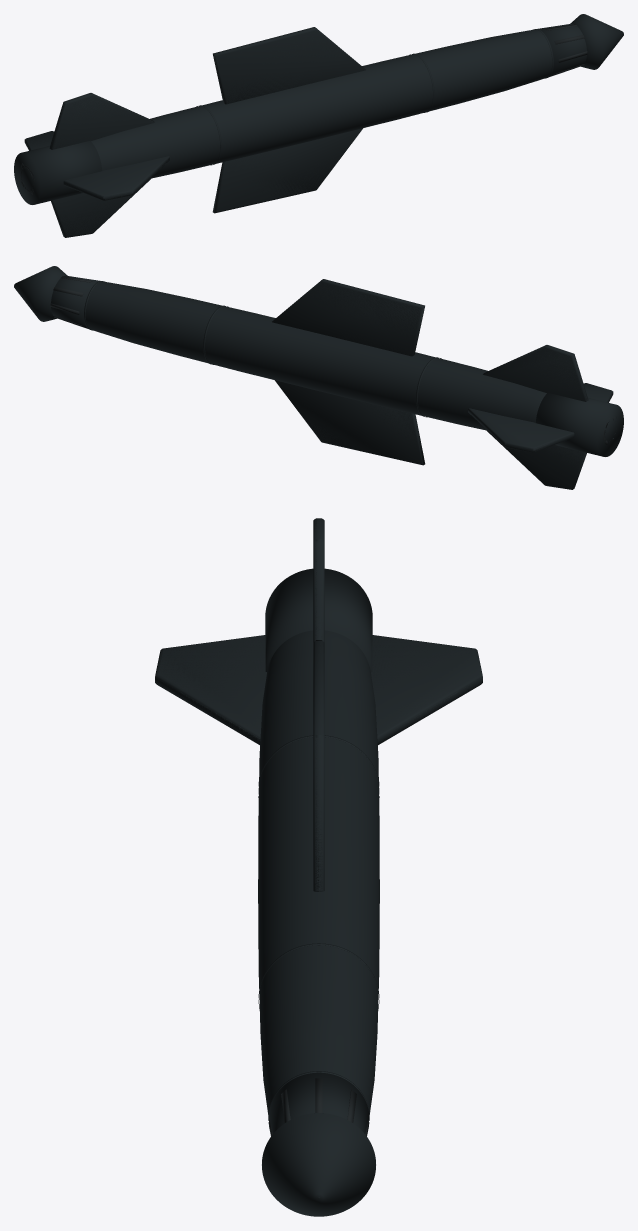
Rendered from P700_Granit.glb.
The picture shows the model from 3 angles, top to bottom: view 1: azimuth 30°, elevation 25°; view 2: azimuth 150°, elevation 25°; view 3: azimuth 270°, elevation 25°; orthographic projection. The views are drawn at different scales.
Visible parts, largest first — view 1: P700_LOD0_Body, P700_LOD0_Wing_L, P700_LOD1_Wing_R, P700_LOD1_Wing_L, P700_LOD0_Booster, P700_LOD0_Wing_R, P700_LOD0_Tail_Horizontal_L, P700_LOD0_Tail_Horizontal_R, P700_LOD0_Tail_Down, P700_LOD1_Tail_Horizontal_L, P700_LOD1_Tail_Horizontal_R, P700_LOD0_Launch_IntakeCap (+7 smaller); view 2: P700_LOD0_Body, P700_LOD1_Wing_L, P700_LOD1_Wing_R, P700_LOD0_Wing_L, P700_LOD0_Tail_Horizontal_L, P700_LOD0_Booster, P700_LOD1_Booster, P700_LOD0_Tail_Horizontal_R, P700_LOD0_Tail_Up, P700_LOD1_Tail_Horizontal_L, P700_LOD0_Launch_IntakeCap, P700_LOD0_Wing_R (+7 smaller); view 3: P700_LOD0_Body, P700_LOD0_Launch_IntakeCap, P700_LOD0_Tail_Down, P700_LOD0_Tail_Up, P700_LOD0_Booster, P700_LOD1_Tail_Up, P700_LOD1_Tail_Down, P700_LOD1_Launch_IntakeCap, P700_LOD0_InletRing, P700_LOD1_Wing_L, P700_LOD1_Booster, P700_LOD1_InletRing (+1 smaller).
Boxes of the visible parts, x1,y1,x2,y2 form: P700_LOD0_Body: (91,29,552,178); P700_LOD0_Wing_L: (215,27,347,103); P700_LOD1_Wing_R: (214,128,362,212); P700_LOD1_Wing_L: (214,27,365,104); P700_LOD0_Booster: (14,141,101,204); P700_LOD0_Wing_R: (217,148,343,211); P700_LOD0_Tail_Horizontal_L: (50,93,152,149); P700_LOD0_Tail_Horizontal_R: (51,179,149,236); P700_LOD0_Tail_Down: (63,156,169,199); P700_LOD1_Tail_Horizontal_L: (49,93,154,149); P700_LOD1_Tail_Horizontal_R: (52,178,150,237); P700_LOD0_Launch_IntakeCap: (570,14,623,69); P700_LOD0_Body: (85,281,546,430); P700_LOD1_Wing_L: (272,279,423,356); P700_LOD1_Wing_R: (275,380,423,464); P700_LOD0_Wing_L: (302,279,423,355); P700_LOD0_Tail_Horizontal_L: (485,345,587,401); P700_LOD0_Booster: (536,393,623,456); P700_LOD1_Booster: (535,393,623,456); P700_LOD0_Tail_Horizontal_R: (488,431,586,488); P700_LOD0_Tail_Up: (470,408,572,451); P700_LOD1_Tail_Horizontal_L: (483,345,588,401); P700_LOD0_Launch_IntakeCap: (14,266,67,321); P700_LOD0_Wing_R: (287,394,420,463); P700_LOD0_Body: (258,630,379,1114); P700_LOD0_Launch_IntakeCap: (262,1113,375,1216); P700_LOD0_Tail_Down: (156,635,266,743); P700_LOD0_Tail_Up: (371,635,481,743); P700_LOD0_Booster: (265,569,372,671); P700_LOD1_Tail_Up: (371,635,482,744); P700_LOD1_Tail_Down: (155,635,266,744); P700_LOD1_Launch_IntakeCap: (262,1113,375,1216); P700_LOD0_InletRing: (268,1072,369,1133); P700_LOD1_Wing_L: (313,641,324,891); P700_LOD1_Booster: (265,568,372,671); P700_LOD1_InletRing: (269,1073,368,1132).
Bounding box in the file's own units: 9.98 × 2.6 × 2.38.
2 materials, 1 textured.
